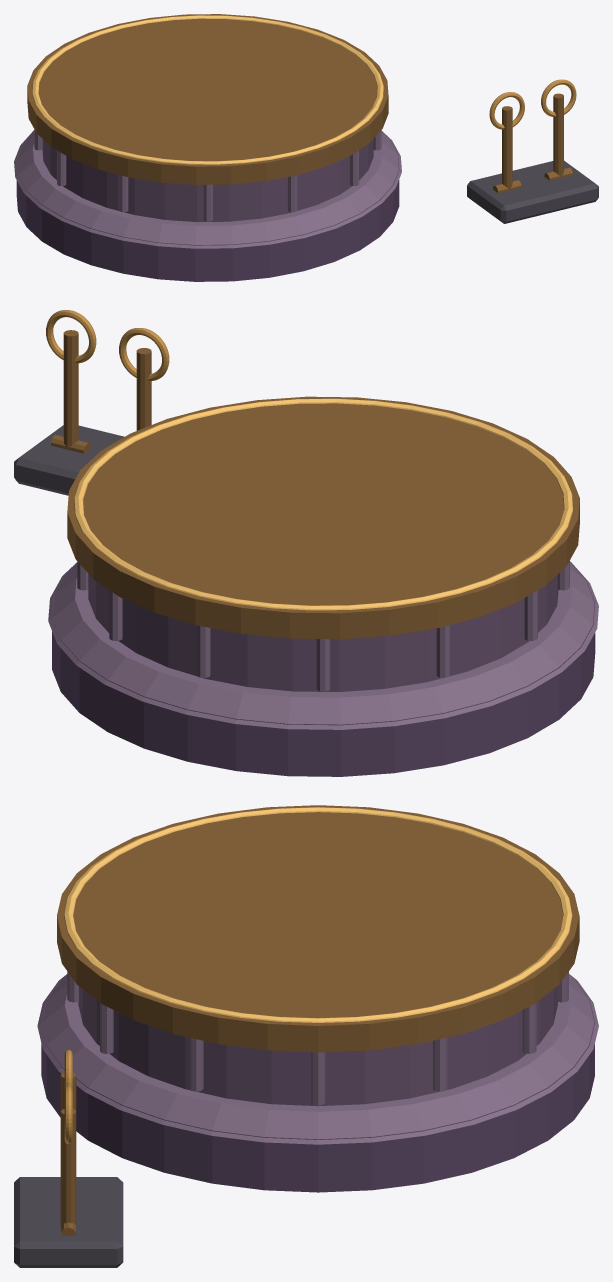
Rendered from SM_Vault_Pedestal.fbx.
The picture shows the model from 3 angles, top to bottom: view 1: azimuth 30°, elevation 25°; view 2: azimuth 150°, elevation 25°; view 3: azimuth 270°, elevation 25°; orthographic projection. The views are drawn at different scales.
Parts seen in each view (by area): view 1: SM_Vault_Pedestal; view 2: SM_Vault_Pedestal; view 3: SM_Vault_Pedestal.
Part boxes in pixels (x1=…): SM_Vault_Pedestal: x1=14, y1=14, x2=598, y2=281; SM_Vault_Pedestal: x1=14, y1=310, x2=598, y2=776; SM_Vault_Pedestal: x1=14, y1=805, x2=598, y2=1267.
Bounding box in the file's own units: 390 × 300 × 98.
